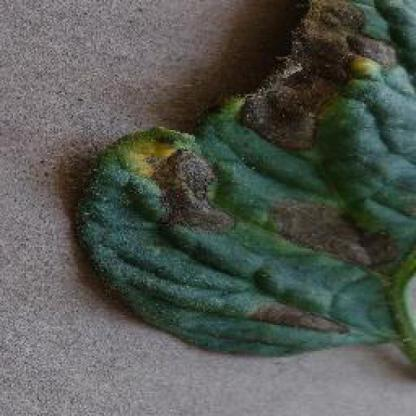Tomato_Blight: (75, 1, 415, 353)
